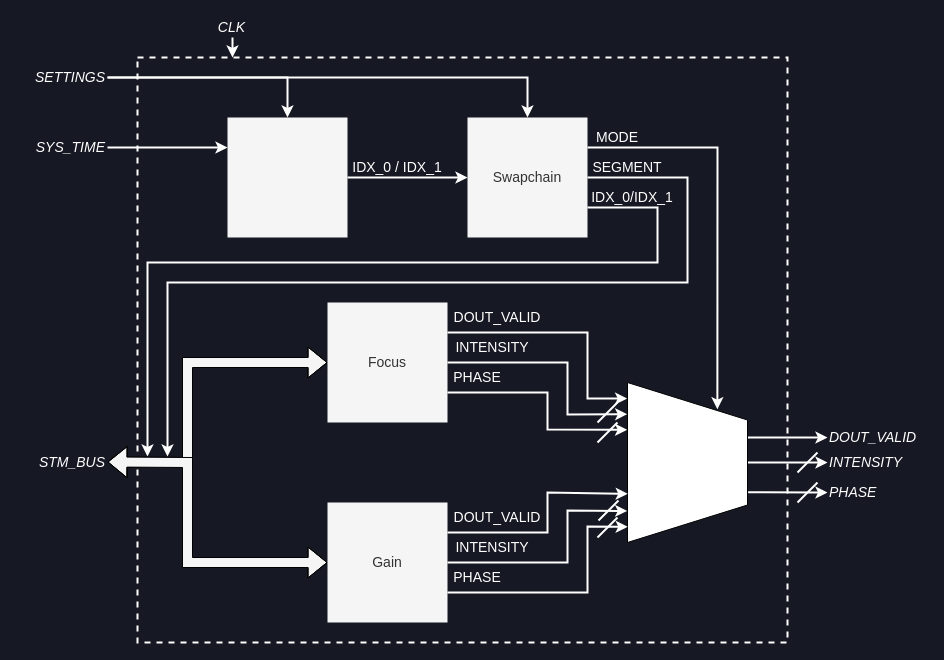
Some shapes in this 944 by 660 pixel diagram are drawn without their labels. The shapes that lost their labels are listed below. From the top down, each one's centre as x and y in pixels, then its label:
At point (287, 177): "Timer".
At point (687, 462): "MUX".
